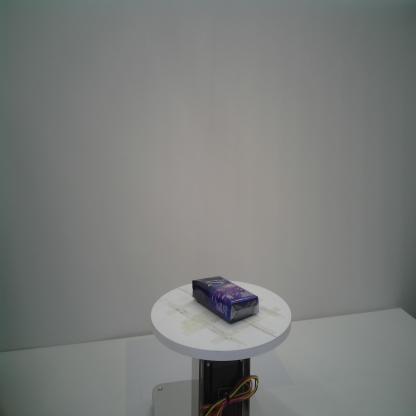Gum: (192, 276, 259, 323)
